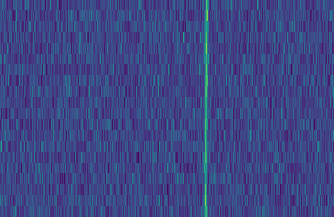signal: (201, 0, 211, 217)
